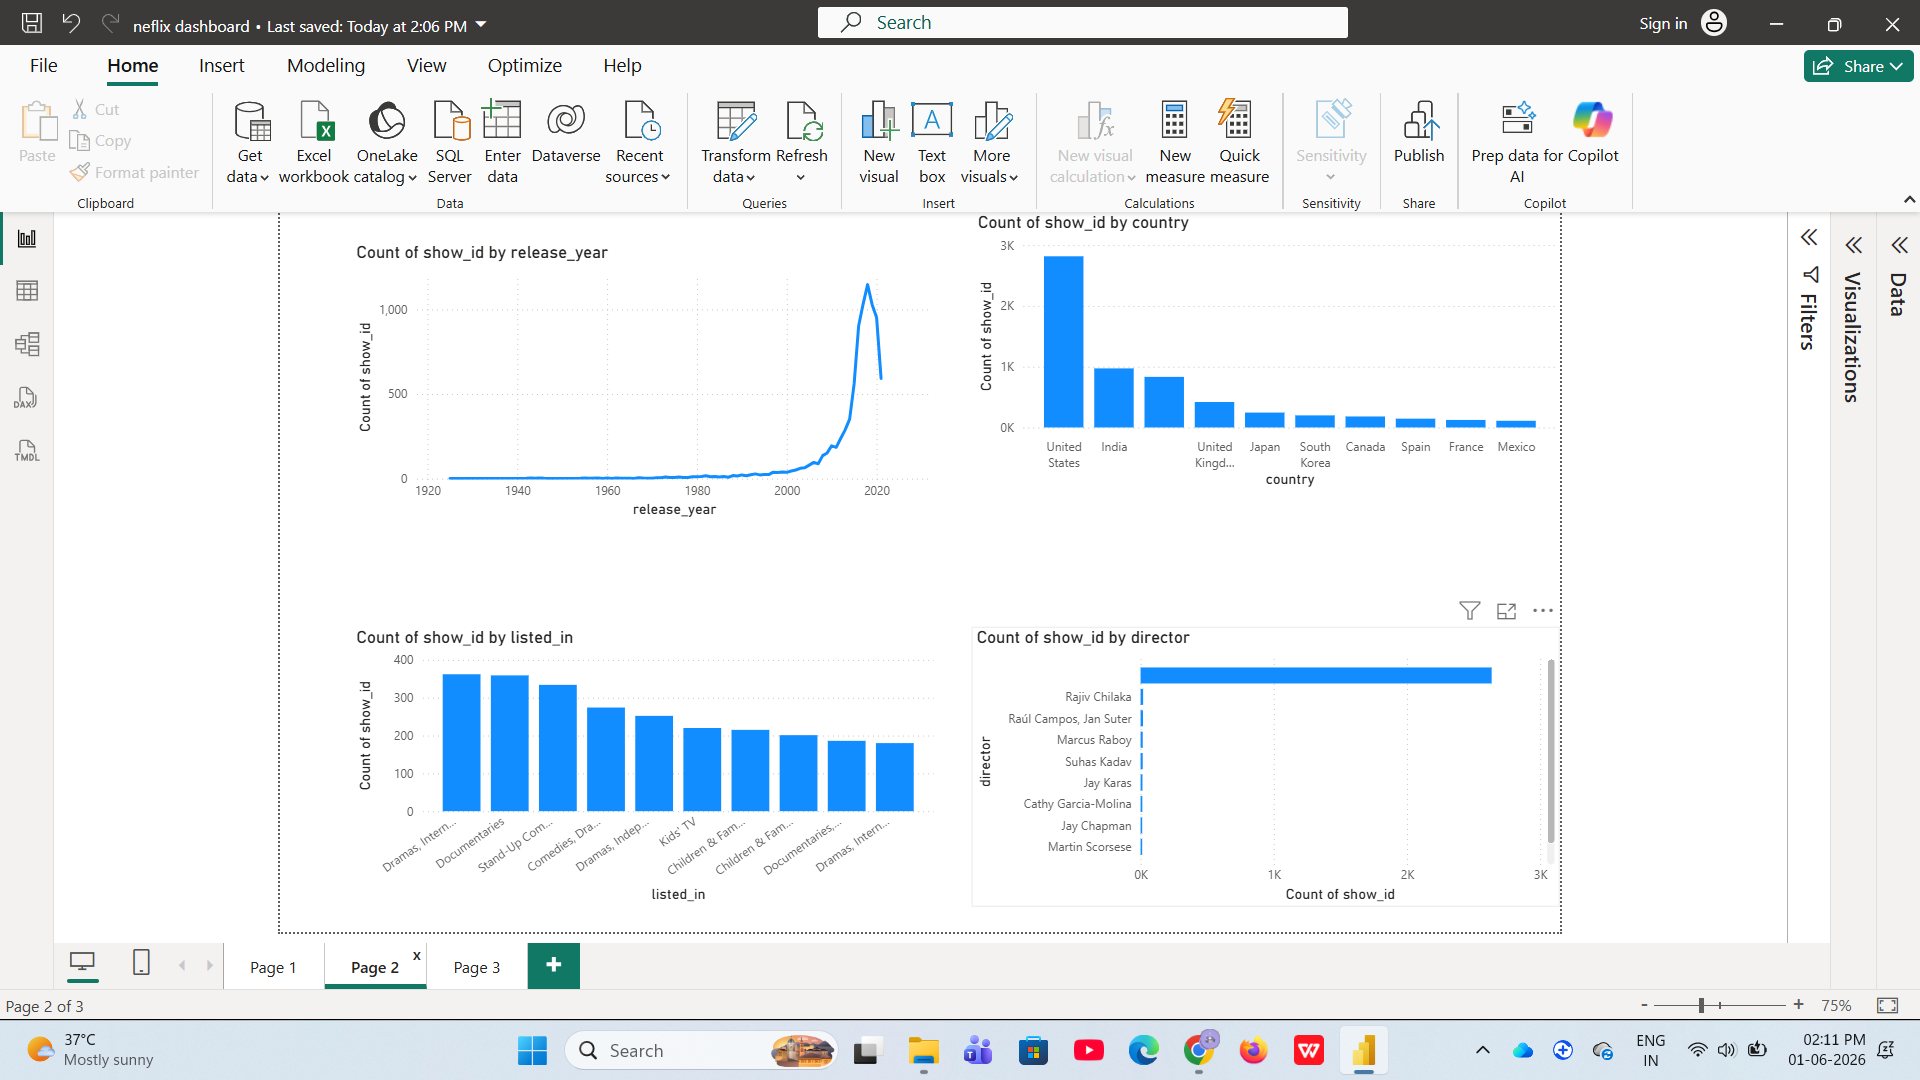

The dashboard page shown, as its layout file describes it:
{"tool":"powerbi","page":{"name":"Page 2","canvas":[1280,720],"ordinal":1},"visuals":[{"type":"lineChart","fields":{"Category":["netflix_titles.release_year"],"Y":["CountNonNull(netflix_titles.show_id)"]},"box":[71,30.2,587.5,279.4],"z":0},{"type":"clusteredColumnChart","fields":{"Category":["netflix_titles.country"],"Y":["CountNonNull(netflix_titles.show_id)"]},"box":[692.5,0,588.2,279.7],"z":1000},{"type":"columnChart","fields":{"Category":["netflix_titles.listed_in"],"Y":["CountNonNull(netflix_titles.show_id)"]},"box":[71.1,414.3,586.6,279.7],"z":2000},{"type":"barChart","fields":{"Category":["netflix_titles.director"],"Y":["CountNonNull(netflix_titles.show_id)"]},"box":[692,414,588,280],"z":3000}]}

Visuals, with their boxes on the page's 1280x720 design canvas (x1, y1, x2, y2). These are canvas units, not pixel positions in the 1920x1080 screenshot, which may show the page scaled, cropped or inside an application window:
lineChart - netflix_titles.release_year x CountNonNull(netflix_titles.show_id): 71 30 658 310
clusteredColumnChart - netflix_titles.country x CountNonNull(netflix_titles.show_id): 692 0 1281 280
columnChart - netflix_titles.listed_in x CountNonNull(netflix_titles.show_id): 71 414 658 694
barChart - netflix_titles.director x CountNonNull(netflix_titles.show_id): 692 414 1280 694
